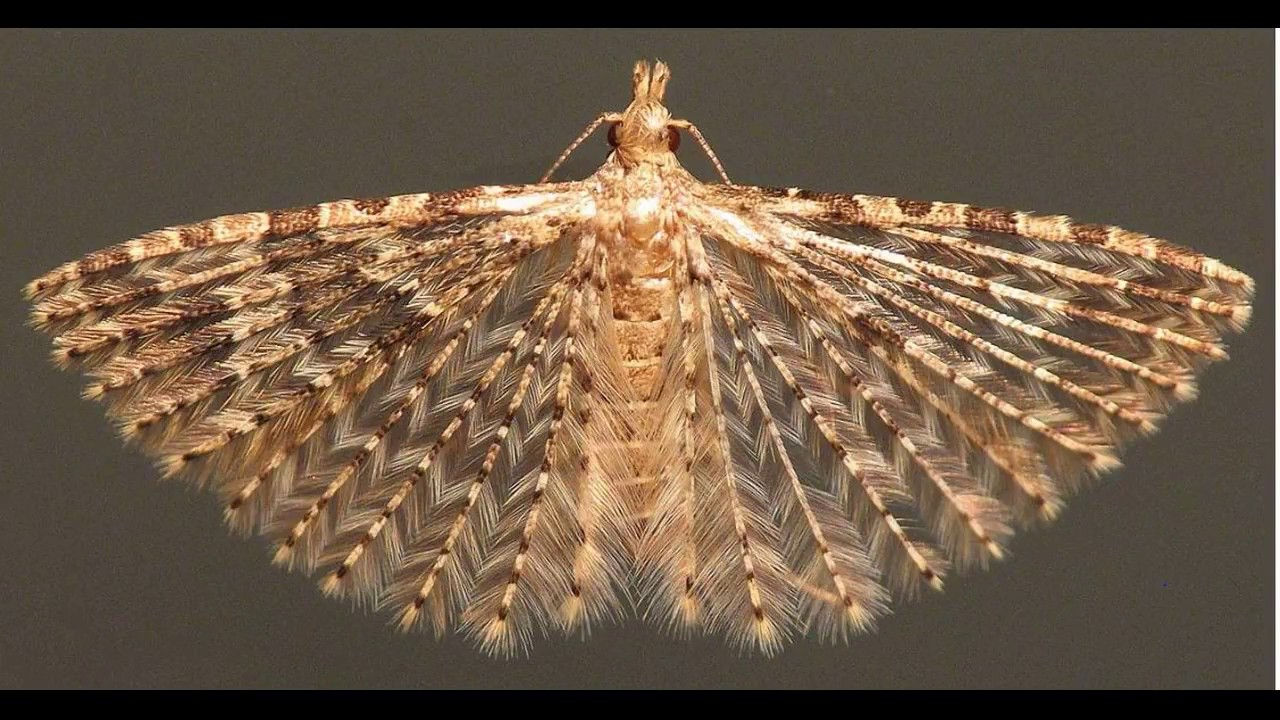Alucitidae: (28, 43, 1267, 665)
moth: (26, 41, 1265, 663)
